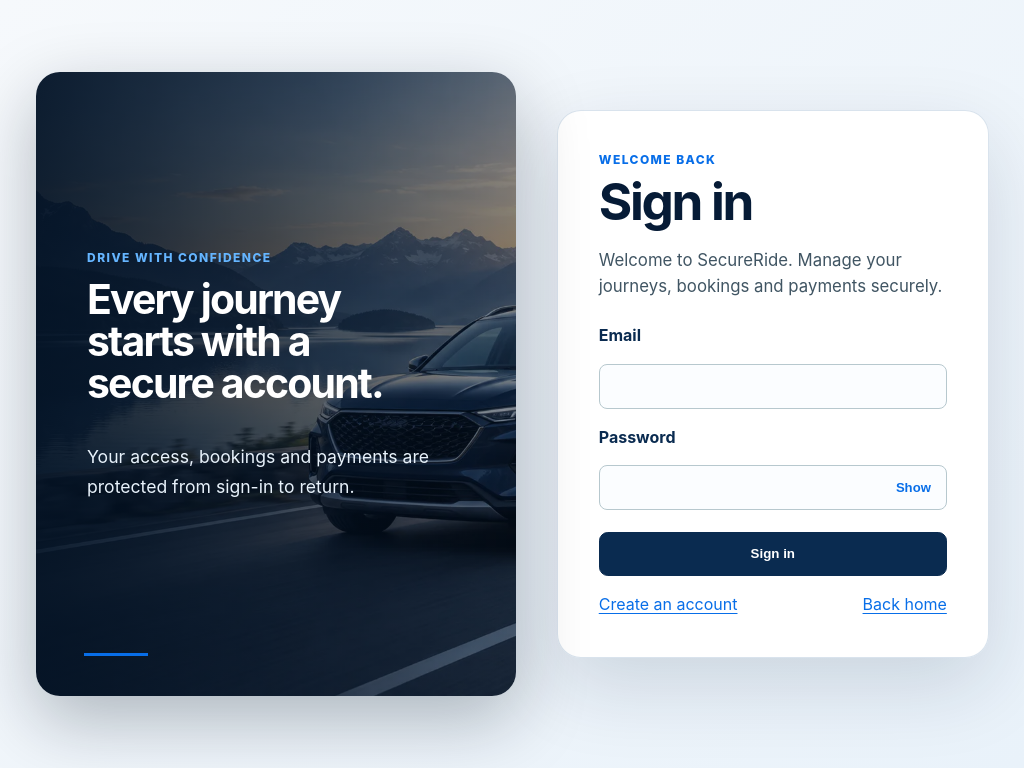
Test: minimal authentication pages › logs in and renders the account
Expected: the button "Sign in" is enabled, left=599, top=532, right=947, bottom=576
Step 1. Type "customer@example.invalid" into the field labelled "Email" → (773, 386), box left=599, top=364, right=947, bottom=408
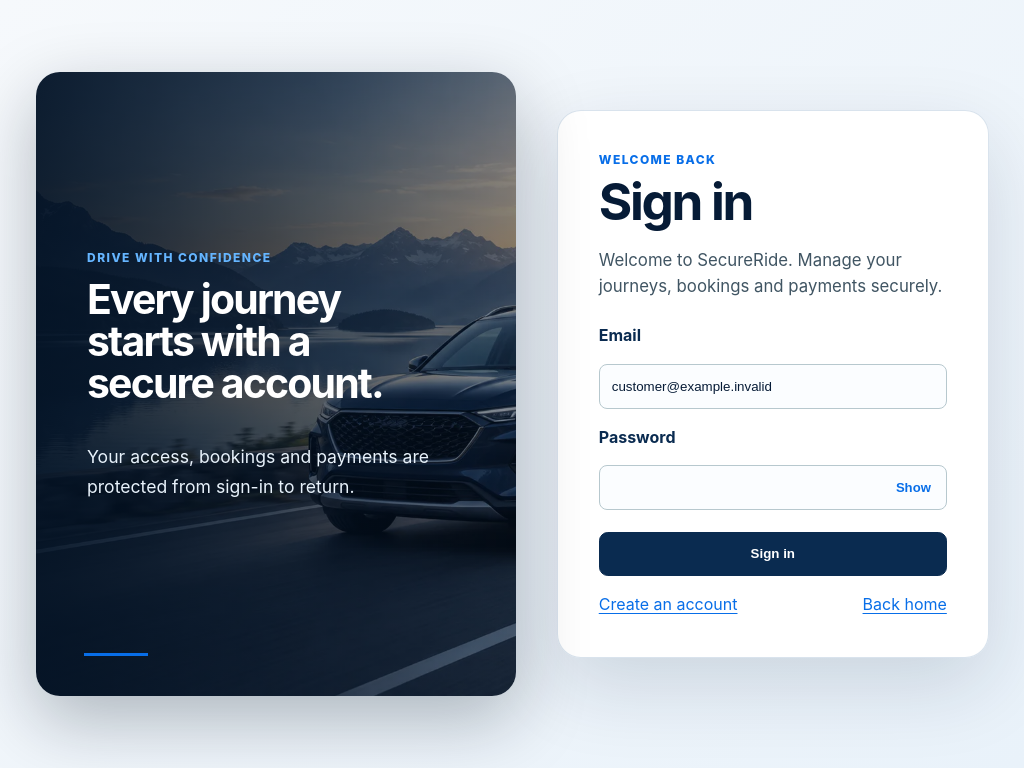
Step 2. Type "a synthetic long passphrase" into the password field labelled "Password" → (773, 488), box left=599, top=465, right=947, bottom=510
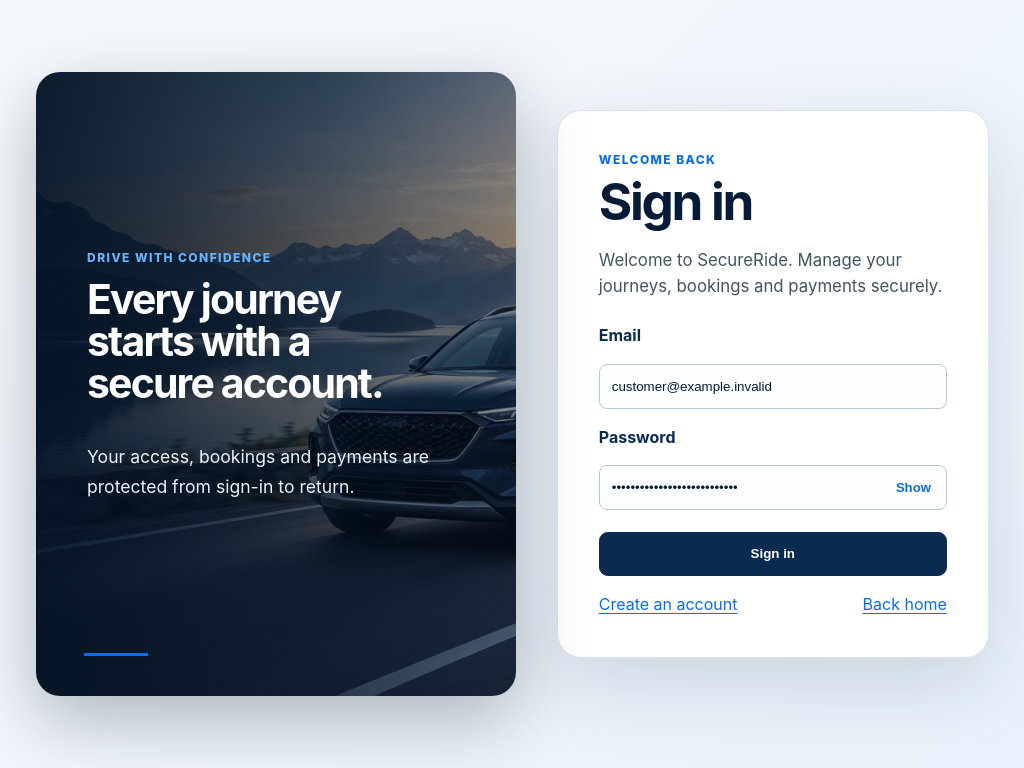
Step 3. Click the button "Sign in" → (773, 554), box left=599, top=532, right=947, bottom=576
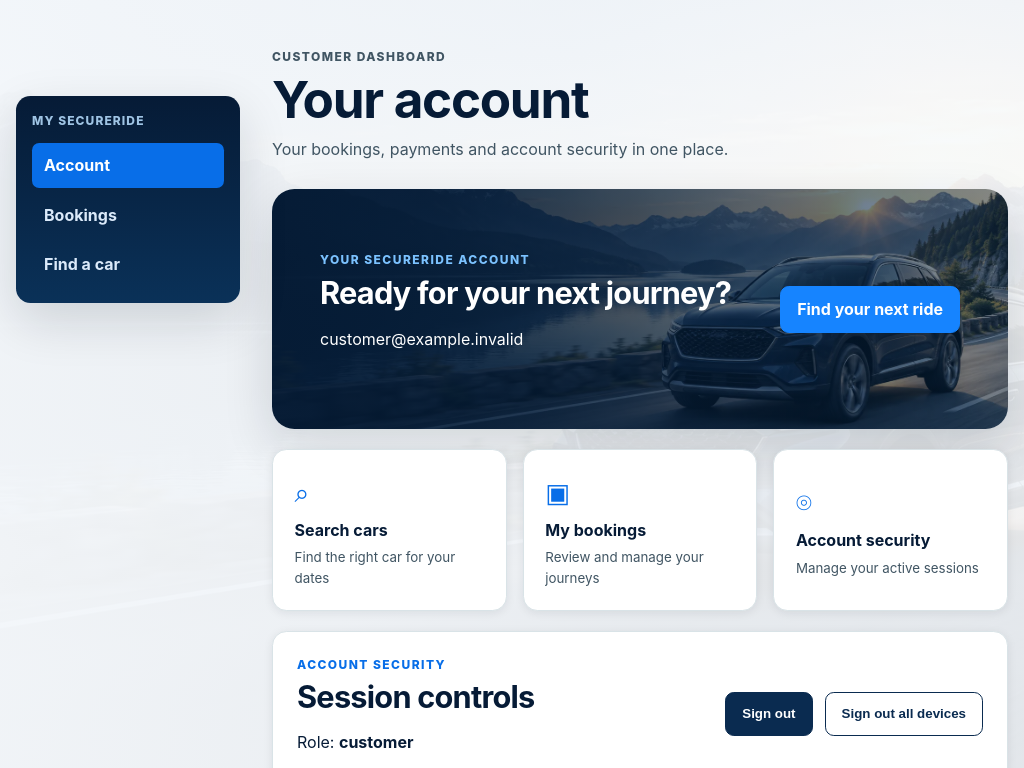
Result: the heading "Your account" is shown at left=272, top=68, right=588, bottom=130
